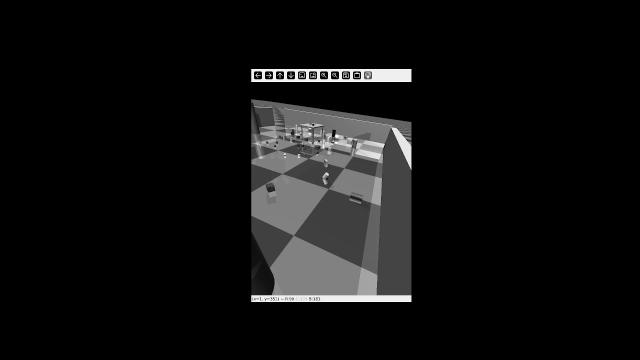cilindro: (250, 230, 273, 293), (251, 102, 263, 135), (349, 190, 366, 202), (352, 138, 359, 148), (323, 173, 333, 179), (332, 129, 337, 137), (295, 124, 299, 131), (314, 150, 320, 154), (322, 139, 325, 145), (302, 148, 306, 152), (289, 138, 293, 142), (277, 135, 282, 138), (258, 140, 261, 145), (291, 139, 296, 142), (304, 133, 307, 137), (266, 140, 269, 144), (313, 122, 316, 125), (325, 134, 327, 138), (297, 143, 299, 147), (274, 141, 278, 143), (293, 129, 295, 132)
cuadrado: (261, 182, 276, 192), (319, 131, 326, 136), (347, 137, 351, 145), (303, 137, 309, 142), (328, 146, 332, 153), (297, 154, 303, 158), (290, 131, 295, 135), (282, 136, 286, 139), (311, 124, 315, 127)
esfera: (280, 151, 290, 158), (272, 144, 277, 149), (335, 135, 340, 139), (317, 138, 322, 142), (311, 141, 315, 145), (343, 136, 347, 139), (275, 137, 278, 140), (310, 122, 313, 125), (300, 132, 304, 134), (333, 140, 335, 143), (309, 127, 311, 130), (302, 144, 305, 146)
rectangulo: (322, 158, 331, 164), (315, 145, 322, 151), (327, 136, 332, 141), (297, 136, 301, 138)
